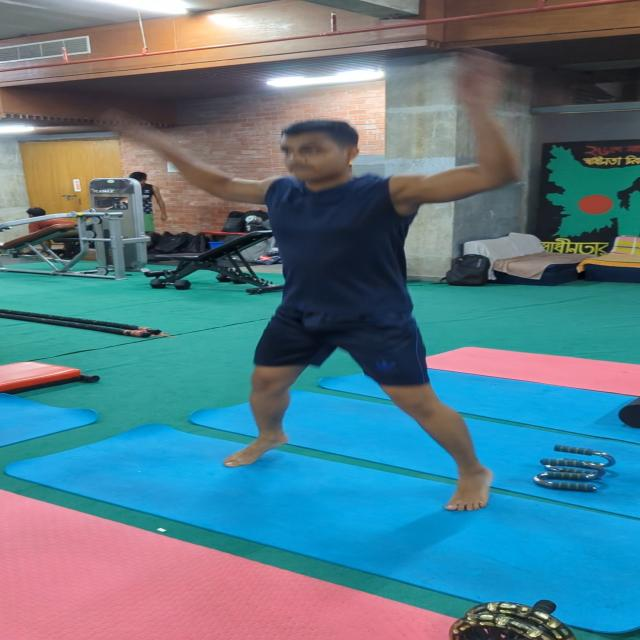Normal_JumpingJacks: (95, 98, 618, 514)
